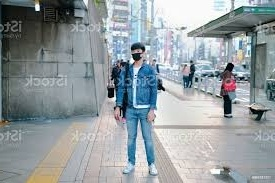not_fallen: (119, 44, 160, 176), (220, 63, 241, 120), (180, 64, 190, 88), (189, 59, 197, 87)
